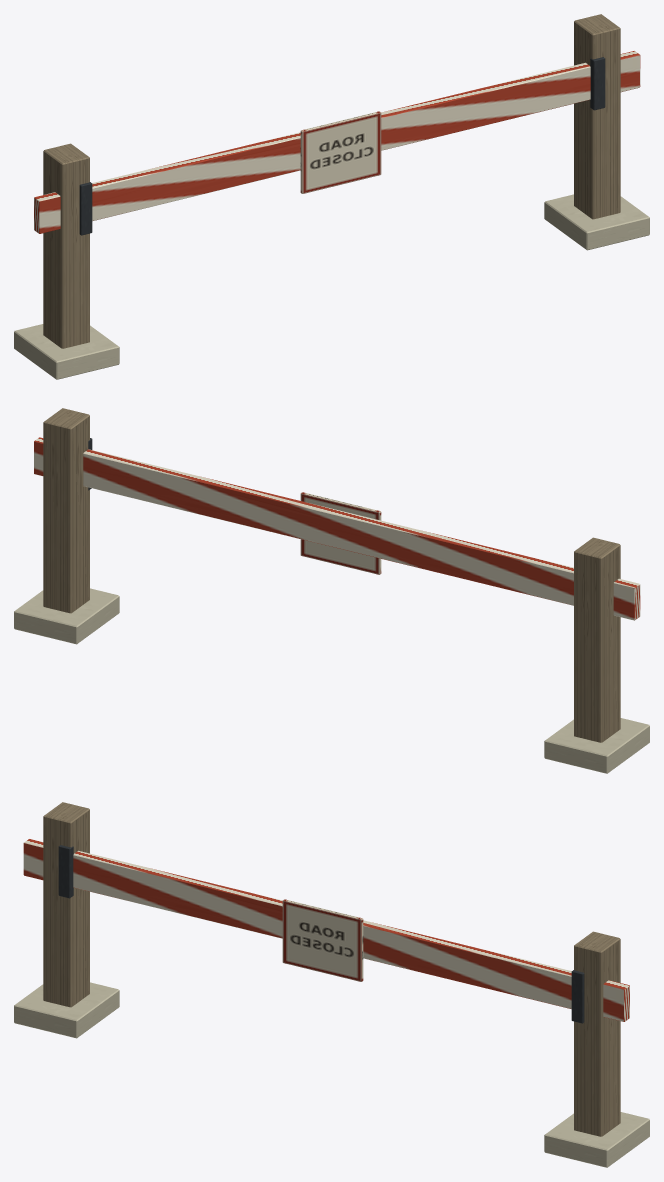
Rendered from road_barrier.glb.
3 renders of one model, top to bottom at view 1: azimuth 30°, elevation 25°; view 2: azimuth 150°, elevation 25°; view 3: azimuth 330°, elevation 25°, orthographic.
Visible parts, largest first — view 1: outdoor_road_barrier; view 2: outdoor_road_barrier; view 3: outdoor_road_barrier.
Boxes of the visible parts, x1,y1,x2,y2 form: outdoor_road_barrier: [14, 14, 649, 379]; outdoor_road_barrier: [14, 408, 649, 773]; outdoor_road_barrier: [14, 802, 649, 1167].
Size of the model in its own units: 3.4 by 1.1 by 0.42.
Materials: 5 (5 with a texture image).
